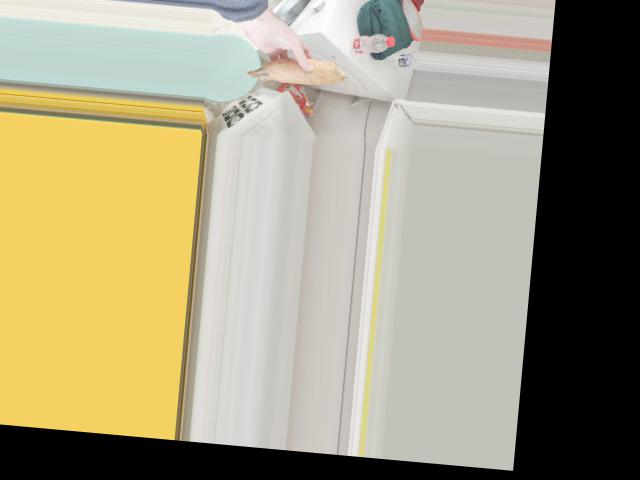sweet_potato: (243, 47, 341, 89)
